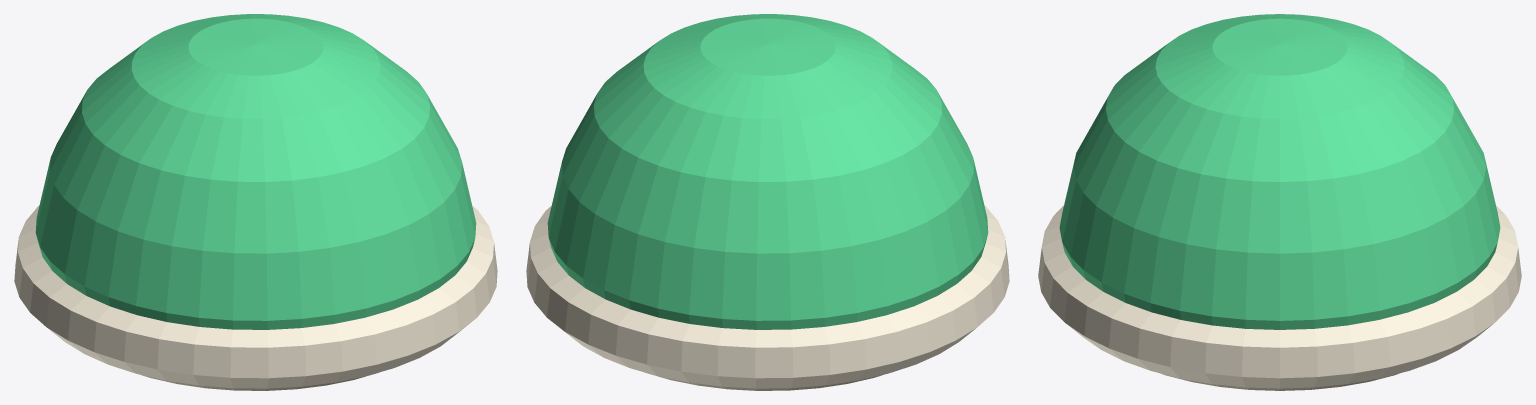
File: green_shell.glb
3 renders of one model, left to right at view 1: azimuth 30°, elevation 25°; view 2: azimuth 150°, elevation 25°; view 3: azimuth 270°, elevation 25°, orthographic.
Parts seen in each view (by area): view 1: colored_dome, outer_lip, underside; view 2: colored_dome, outer_lip, underside; view 3: colored_dome, outer_lip, underside.
Boxes of the visible parts, x1,y1,x2,y2 form: colored_dome: [35, 14, 476, 329]; outer_lip: [14, 205, 497, 388]; underside: [141, 372, 378, 390]; colored_dome: [547, 14, 988, 329]; outer_lip: [526, 205, 1009, 388]; underside: [645, 372, 882, 390]; colored_dome: [1059, 14, 1500, 329]; outer_lip: [1038, 205, 1521, 388]; underside: [1161, 373, 1398, 390].
Bounding box in the file's own units: 1.36 × 0.9 × 1.36.
